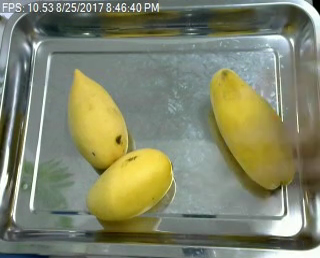Mango: (207, 64, 301, 190), (57, 64, 134, 174), (84, 148, 180, 222)
